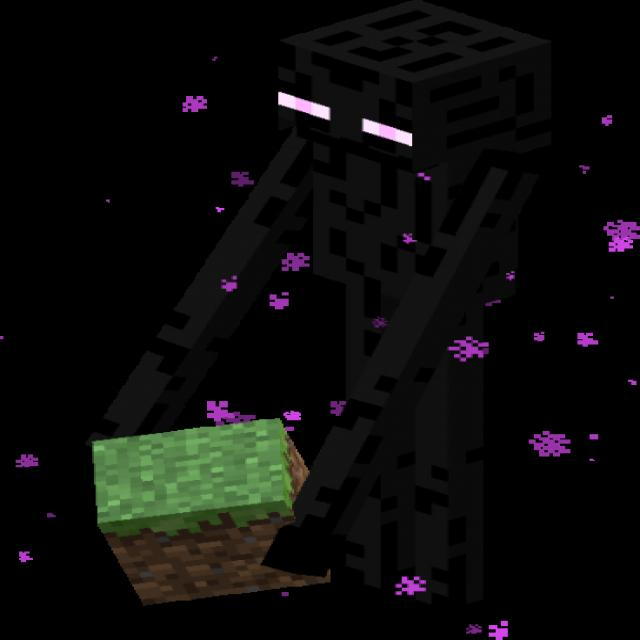Enderman: (51, 0, 556, 640)
